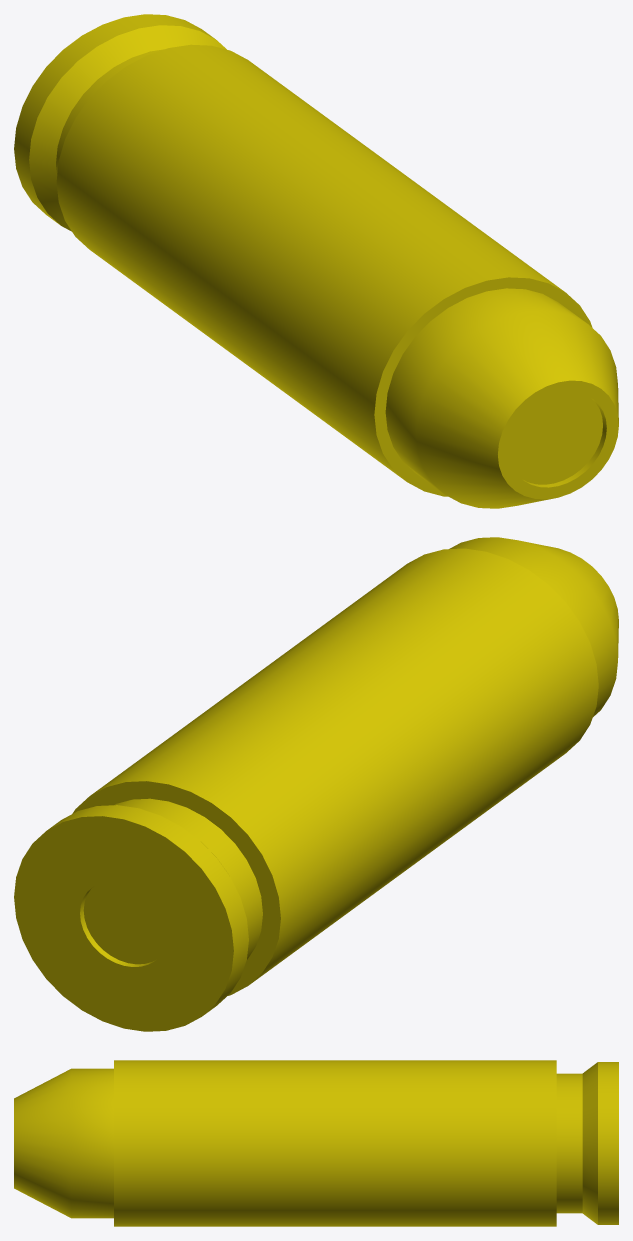
The model's file is Bullet.fbx.
3 renders of one model, top to bottom at view 1: azimuth 30°, elevation 25°; view 2: azimuth 150°, elevation 25°; view 3: azimuth 270°, elevation 25°, orthographic. The views are drawn at different scales.
Visible parts, largest first — view 1: Cylinder.005; view 2: Cylinder.005; view 3: Cylinder.005.
Part boxes in pixels (x1=…): Cylinder.005: x1=14, y1=14, x2=618, y2=508; Cylinder.005: x1=14, y1=537, x2=618, y2=1031; Cylinder.005: x1=14, y1=1060, x2=618, y2=1226.
Bounding box in the file's own units: 3.47 × 3.15 × 11.62.
